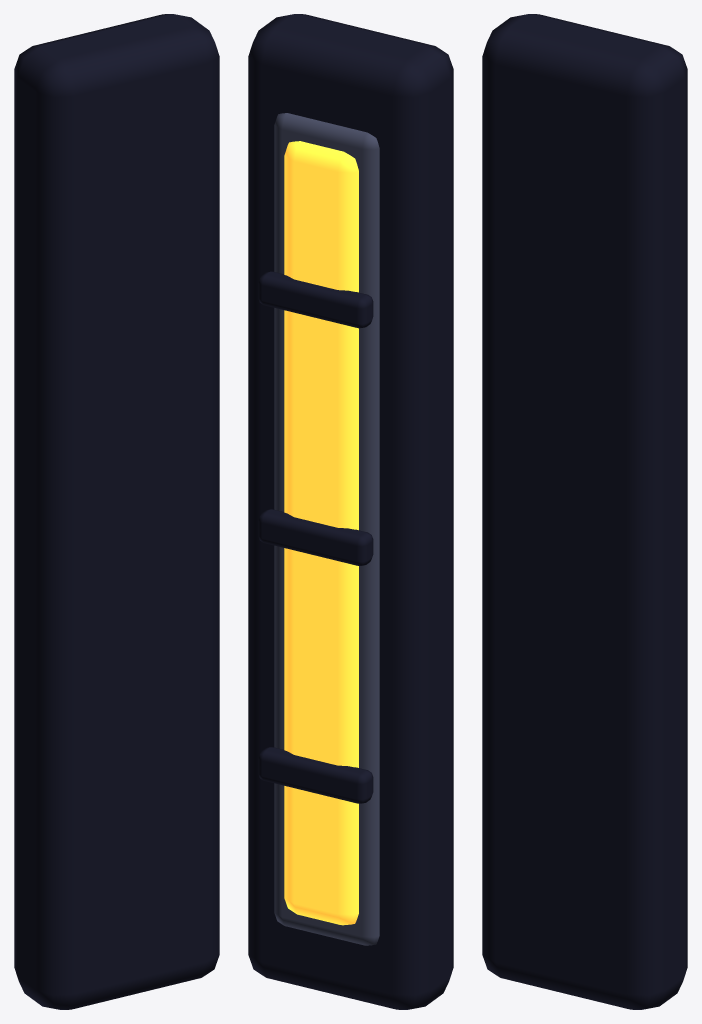
Rendered from prop.props_workrooms.wall_strip_amber.glb.
3 views of the same model, side by side, from view 1: azimuth 30°, elevation 25°; view 2: azimuth 150°, elevation 25°; view 3: azimuth 330°, elevation 25° (orthographic).
Visible parts, largest first — view 1: prop.props_workrooms.wall_strip_amber; view 2: prop.props_workrooms.wall_strip_amber; view 3: prop.props_workrooms.wall_strip_amber.
Part boxes in pixels (bbox=[...]): prop.props_workrooms.wall_strip_amber: bbox=[14, 14, 219, 1009]; prop.props_workrooms.wall_strip_amber: bbox=[248, 14, 453, 1009]; prop.props_workrooms.wall_strip_amber: bbox=[482, 14, 687, 1009].
Bounding box in the file's own units: 0.1 × 0.5 × 0.062.
